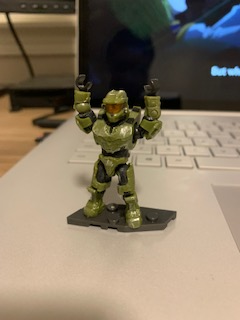chief: (73, 73, 164, 232)
spartan: (71, 71, 162, 230)
up: (72, 74, 164, 157)
